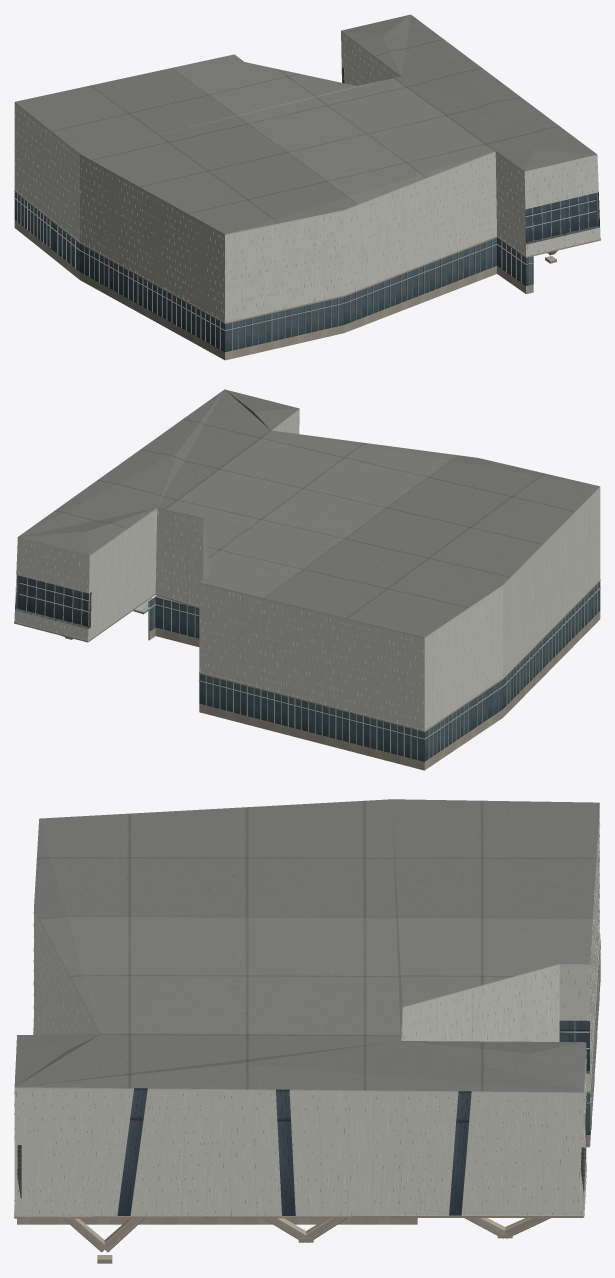
The model's file is performance_hall_and_music_building.glb.
3 renders of one model, top to bottom at view 1: azimuth 30°, elevation 25°; view 2: azimuth 150°, elevation 25°; view 3: azimuth 270°, elevation 25°, orthographic. The views are drawn at different scales.
Parts seen in each view (by area): view 1: performance_hall_and_music_building_CampusAtlas_facade.039, performance_hall_and_music_building_CampusAtlas_glass.039; view 2: performance_hall_and_music_building_CampusAtlas_facade.039, performance_hall_and_music_building_CampusAtlas_glass.039; view 3: performance_hall_and_music_building_CampusAtlas_facade.039, performance_hall_and_music_building_CampusAtlas_glass.039.
Part boxes in pixels (left/top/right/bottom): performance_hall_and_music_building_CampusAtlas_facade.039: left=14, top=14, right=600, bottom=360; performance_hall_and_music_building_CampusAtlas_glass.039: left=14, top=79, right=597, bottom=351; performance_hall_and_music_building_CampusAtlas_facade.039: left=14, top=389, right=600, bottom=770; performance_hall_and_music_building_CampusAtlas_glass.039: left=17, top=576, right=600, bottom=761; performance_hall_and_music_building_CampusAtlas_facade.039: left=14, top=799, right=600, bottom=1263; performance_hall_and_music_building_CampusAtlas_glass.039: left=117, top=1020, right=590, bottom=1215.
Bounding box in the file's own units: 68.36 × 20.88 × 58.44.
2 materials, 2 textured.
